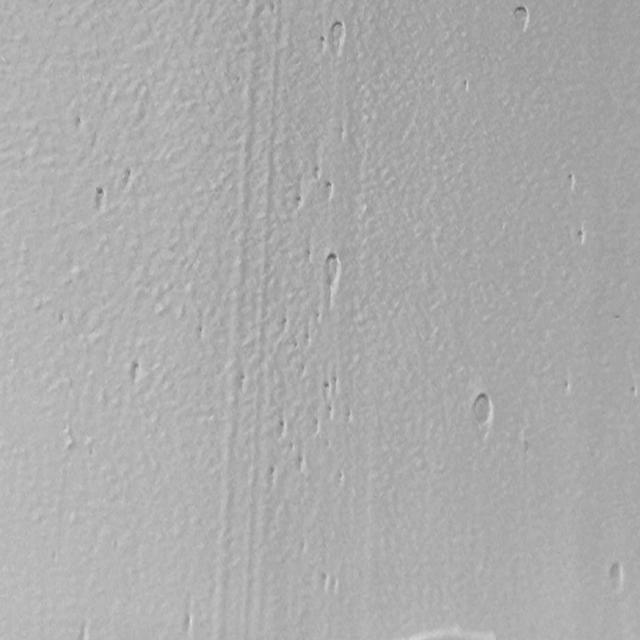pin holes: (468, 389, 495, 433), (320, 251, 342, 293), (325, 19, 349, 52), (604, 561, 626, 593), (508, 3, 532, 31), (90, 185, 110, 212), (127, 360, 145, 384), (315, 572, 334, 594), (559, 377, 577, 398), (574, 226, 590, 248), (266, 462, 280, 486), (273, 417, 288, 439), (122, 165, 136, 186), (566, 172, 579, 192), (183, 613, 193, 639), (296, 457, 308, 477), (73, 115, 87, 132), (324, 181, 336, 200), (79, 618, 89, 640), (294, 192, 306, 210), (320, 379, 332, 396), (311, 166, 322, 182), (325, 405, 335, 421), (628, 384, 638, 400), (462, 80, 472, 96), (239, 372, 247, 392), (323, 436, 333, 452), (336, 467, 345, 484), (304, 330, 312, 347), (346, 408, 354, 425), (313, 417, 319, 436), (314, 308, 322, 322), (293, 337, 300, 352), (300, 362, 307, 374), (280, 316, 286, 329)
